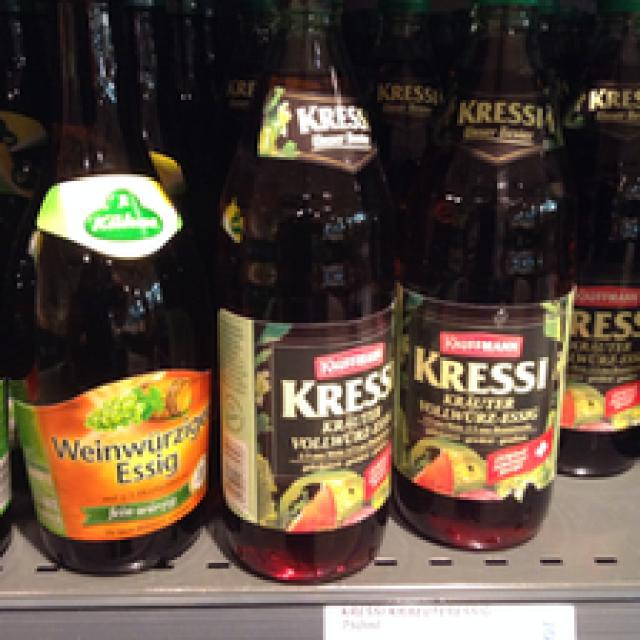groceries: (8, 0, 212, 583), (214, 0, 400, 580), (397, 6, 569, 548)
